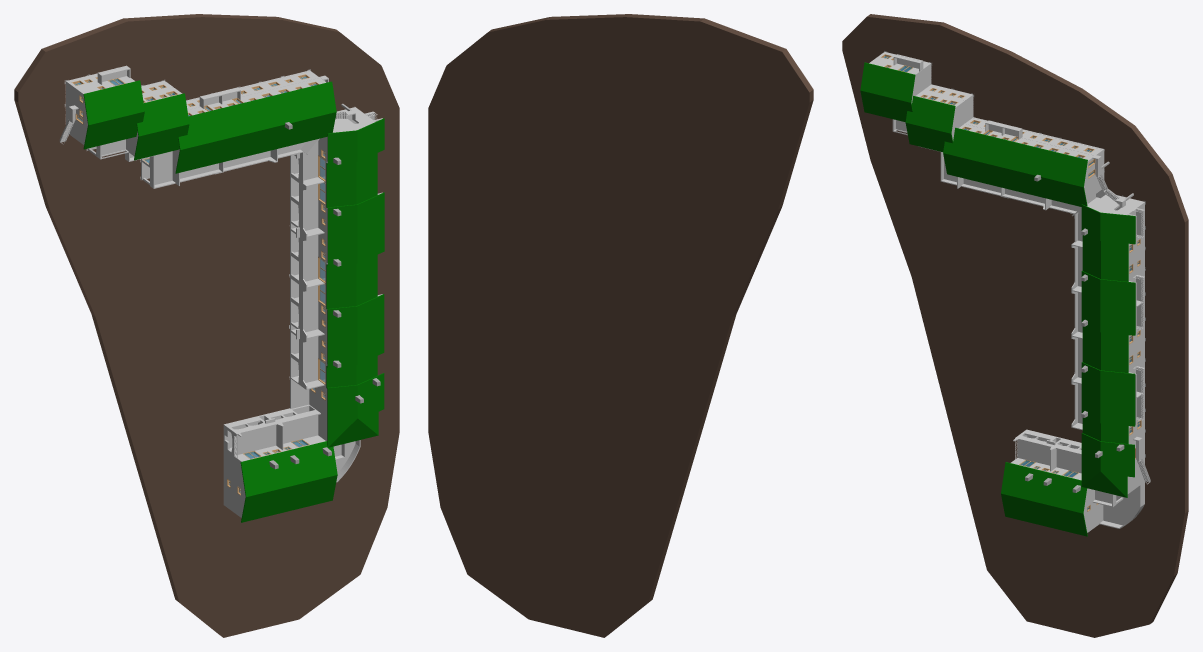
File: GOLF.obj
The picture shows the model from 3 angles, left to right: view 1: azimuth 30°, elevation 25°; view 2: azimuth 150°, elevation 25°; view 3: azimuth 330°, elevation 25°; orthographic projection. The views are drawn at different scales.
Visible parts, largest first — view 1: product-23e8c5d9-53f7-4975-b386-10b186bb9d31-body, product-c6a59caf-6c8b-41a0-a920-f59e1d62e6be-body, product-323f899f-82bc-4a25-a335-e614a544c6b3-body, product-06ca546c-f492-4fa6-9637-ab5fd47ab231-body, product-889ec004-eb37-4fa4-a4fa-442fc653e99a-body, product-183afa9c-3063-4371-b7aa-bff28d31bfd3-body, product-07d9b222-280b-4506-a88f-e794c985e873-body, product-06ca546c-f492-4fa6-9637-ab5ed47ab231-body, product-98d81d27-a4be-4092-b1ef-76fbea0cfc21-body, product-98d81d27-a4be-4092-b1ef-76fbea0cfe08-body, product-07d9b222-280b-4506-a88f-e796c985d13c-body, product-84dd21f0-9e44-475f-bbf6-136ba51ad33d-body (+17 smaller); view 2: product-23e8c5d9-53f7-4975-b386-10b186bb9d31-body; view 3: product-23e8c5d9-53f7-4975-b386-10b186bb9d31-body, product-c6a59caf-6c8b-41a0-a920-f59e1d62e6be-body, product-323f899f-82bc-4a25-a335-e614a544c6b3-body, product-06ca546c-f492-4fa6-9637-ab5fd47ab231-body, product-183afa9c-3063-4371-b7aa-bff28d31bfd3-body, product-98d81d27-a4be-4092-b1ef-76f8ea0cfdf1-body, product-98d81d27-a4be-4092-b1ef-76f8ea0cffd7-body, product-06ca546c-f492-4fa6-9637-ab5ed47ab231-body, product-98d81d27-a4be-4092-b1ef-76fbea0cfc21-body, product-98d81d27-a4be-4092-b1ef-76fbea0cfe08-body, product-07d9b222-280b-4506-a88f-e794c985e873-body, product-98d81d27-a4be-4092-b1ef-76fbea0cf15d-body (+13 smaller).
Part boxes in pixels (box(x1,y1,x2,y2)): product-23e8c5d9-53f7-4975-b386-10b186bb9d31-body: box(14, 14, 399, 637); product-c6a59caf-6c8b-41a0-a920-f59e1d62e6be-body: box(175, 81, 336, 173); product-323f899f-82bc-4a25-a335-e614a544c6b3-body: box(233, 110, 374, 492); product-06ca546c-f492-4fa6-9637-ab5fd47ab231-body: box(240, 441, 337, 497); product-889ec004-eb37-4fa4-a4fa-442fc653e99a-body: box(223, 155, 355, 505); product-183afa9c-3063-4371-b7aa-bff28d31bfd3-body: box(134, 93, 189, 160); product-07d9b222-280b-4506-a88f-e794c985e873-body: box(68, 65, 325, 186); product-06ca546c-f492-4fa6-9637-ab5ed47ab231-body: box(241, 475, 337, 522); product-98d81d27-a4be-4092-b1ef-76fbea0cfc21-body: box(326, 153, 377, 207); product-98d81d27-a4be-4092-b1ef-76fbea0cfe08-body: box(326, 255, 377, 308); product-07d9b222-280b-4506-a88f-e796c985d13c-body: box(83, 80, 144, 125); product-84dd21f0-9e44-475f-bbf6-136ba51ad33d-body: box(318, 78, 327, 440); product-23e8c5d9-53f7-4975-b386-10b186bb9d31-body: box(428, 14, 813, 637); product-23e8c5d9-53f7-4975-b386-10b186bb9d31-body: box(842, 14, 1188, 637); product-c6a59caf-6c8b-41a0-a920-f59e1d62e6be-body: box(943, 127, 1087, 206); product-323f899f-82bc-4a25-a335-e614a544c6b3-body: box(1017, 198, 1144, 508); product-06ca546c-f492-4fa6-9637-ab5fd47ab231-body: box(1001, 462, 1087, 513); product-183afa9c-3063-4371-b7aa-bff28d31bfd3-body: box(905, 96, 955, 151); product-98d81d27-a4be-4092-b1ef-76f8ea0cfdf1-body: box(1100, 279, 1135, 335); product-98d81d27-a4be-4092-b1ef-76f8ea0cffd7-body: box(1100, 370, 1135, 426); product-06ca546c-f492-4fa6-9637-ab5ed47ab231-body: box(1001, 493, 1087, 536); product-98d81d27-a4be-4092-b1ef-76fbea0cfc21-body: box(1082, 234, 1128, 281); product-98d81d27-a4be-4092-b1ef-76fbea0cfe08-body: box(1082, 326, 1128, 372); product-07d9b222-280b-4506-a88f-e794c985e873-body: box(887, 54, 1101, 212); product-98d81d27-a4be-4092-b1ef-76fbea0cf15d-body: box(1081, 204, 1135, 244).
Size of the model in its own units: 62.91 by 101 by 9.88.
